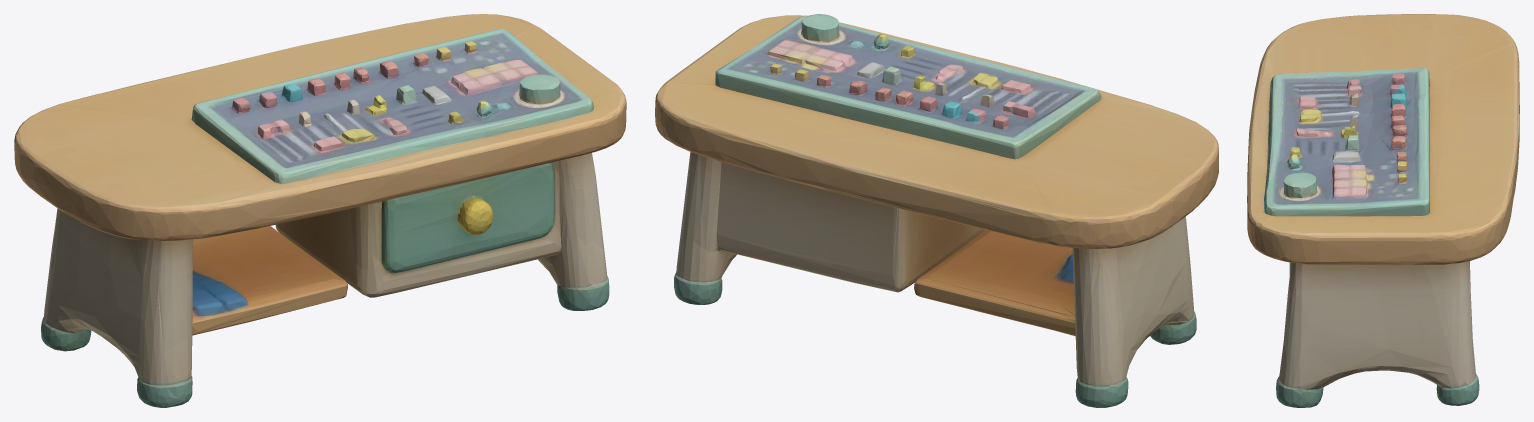
File: studio_desk.glb
The picture shows the model from 3 angles, left to right: view 1: azimuth 30°, elevation 25°; view 2: azimuth 150°, elevation 25°; view 3: azimuth 270°, elevation 25°; orthographic projection. The views are drawn at different scales.
Visible parts, largest first — view 1: geometry_0; view 2: geometry_0; view 3: geometry_0.
Part boxes in pixels (x1,y1,x2,y2): geometry_0: (14,14,626,407); geometry_0: (655,14,1218,407); geometry_0: (1247,14,1519,407).
Bounding box in the file's own units: 0.9995 × 0.4317 × 0.5153.
Materials: 1 (1 with a texture image).
